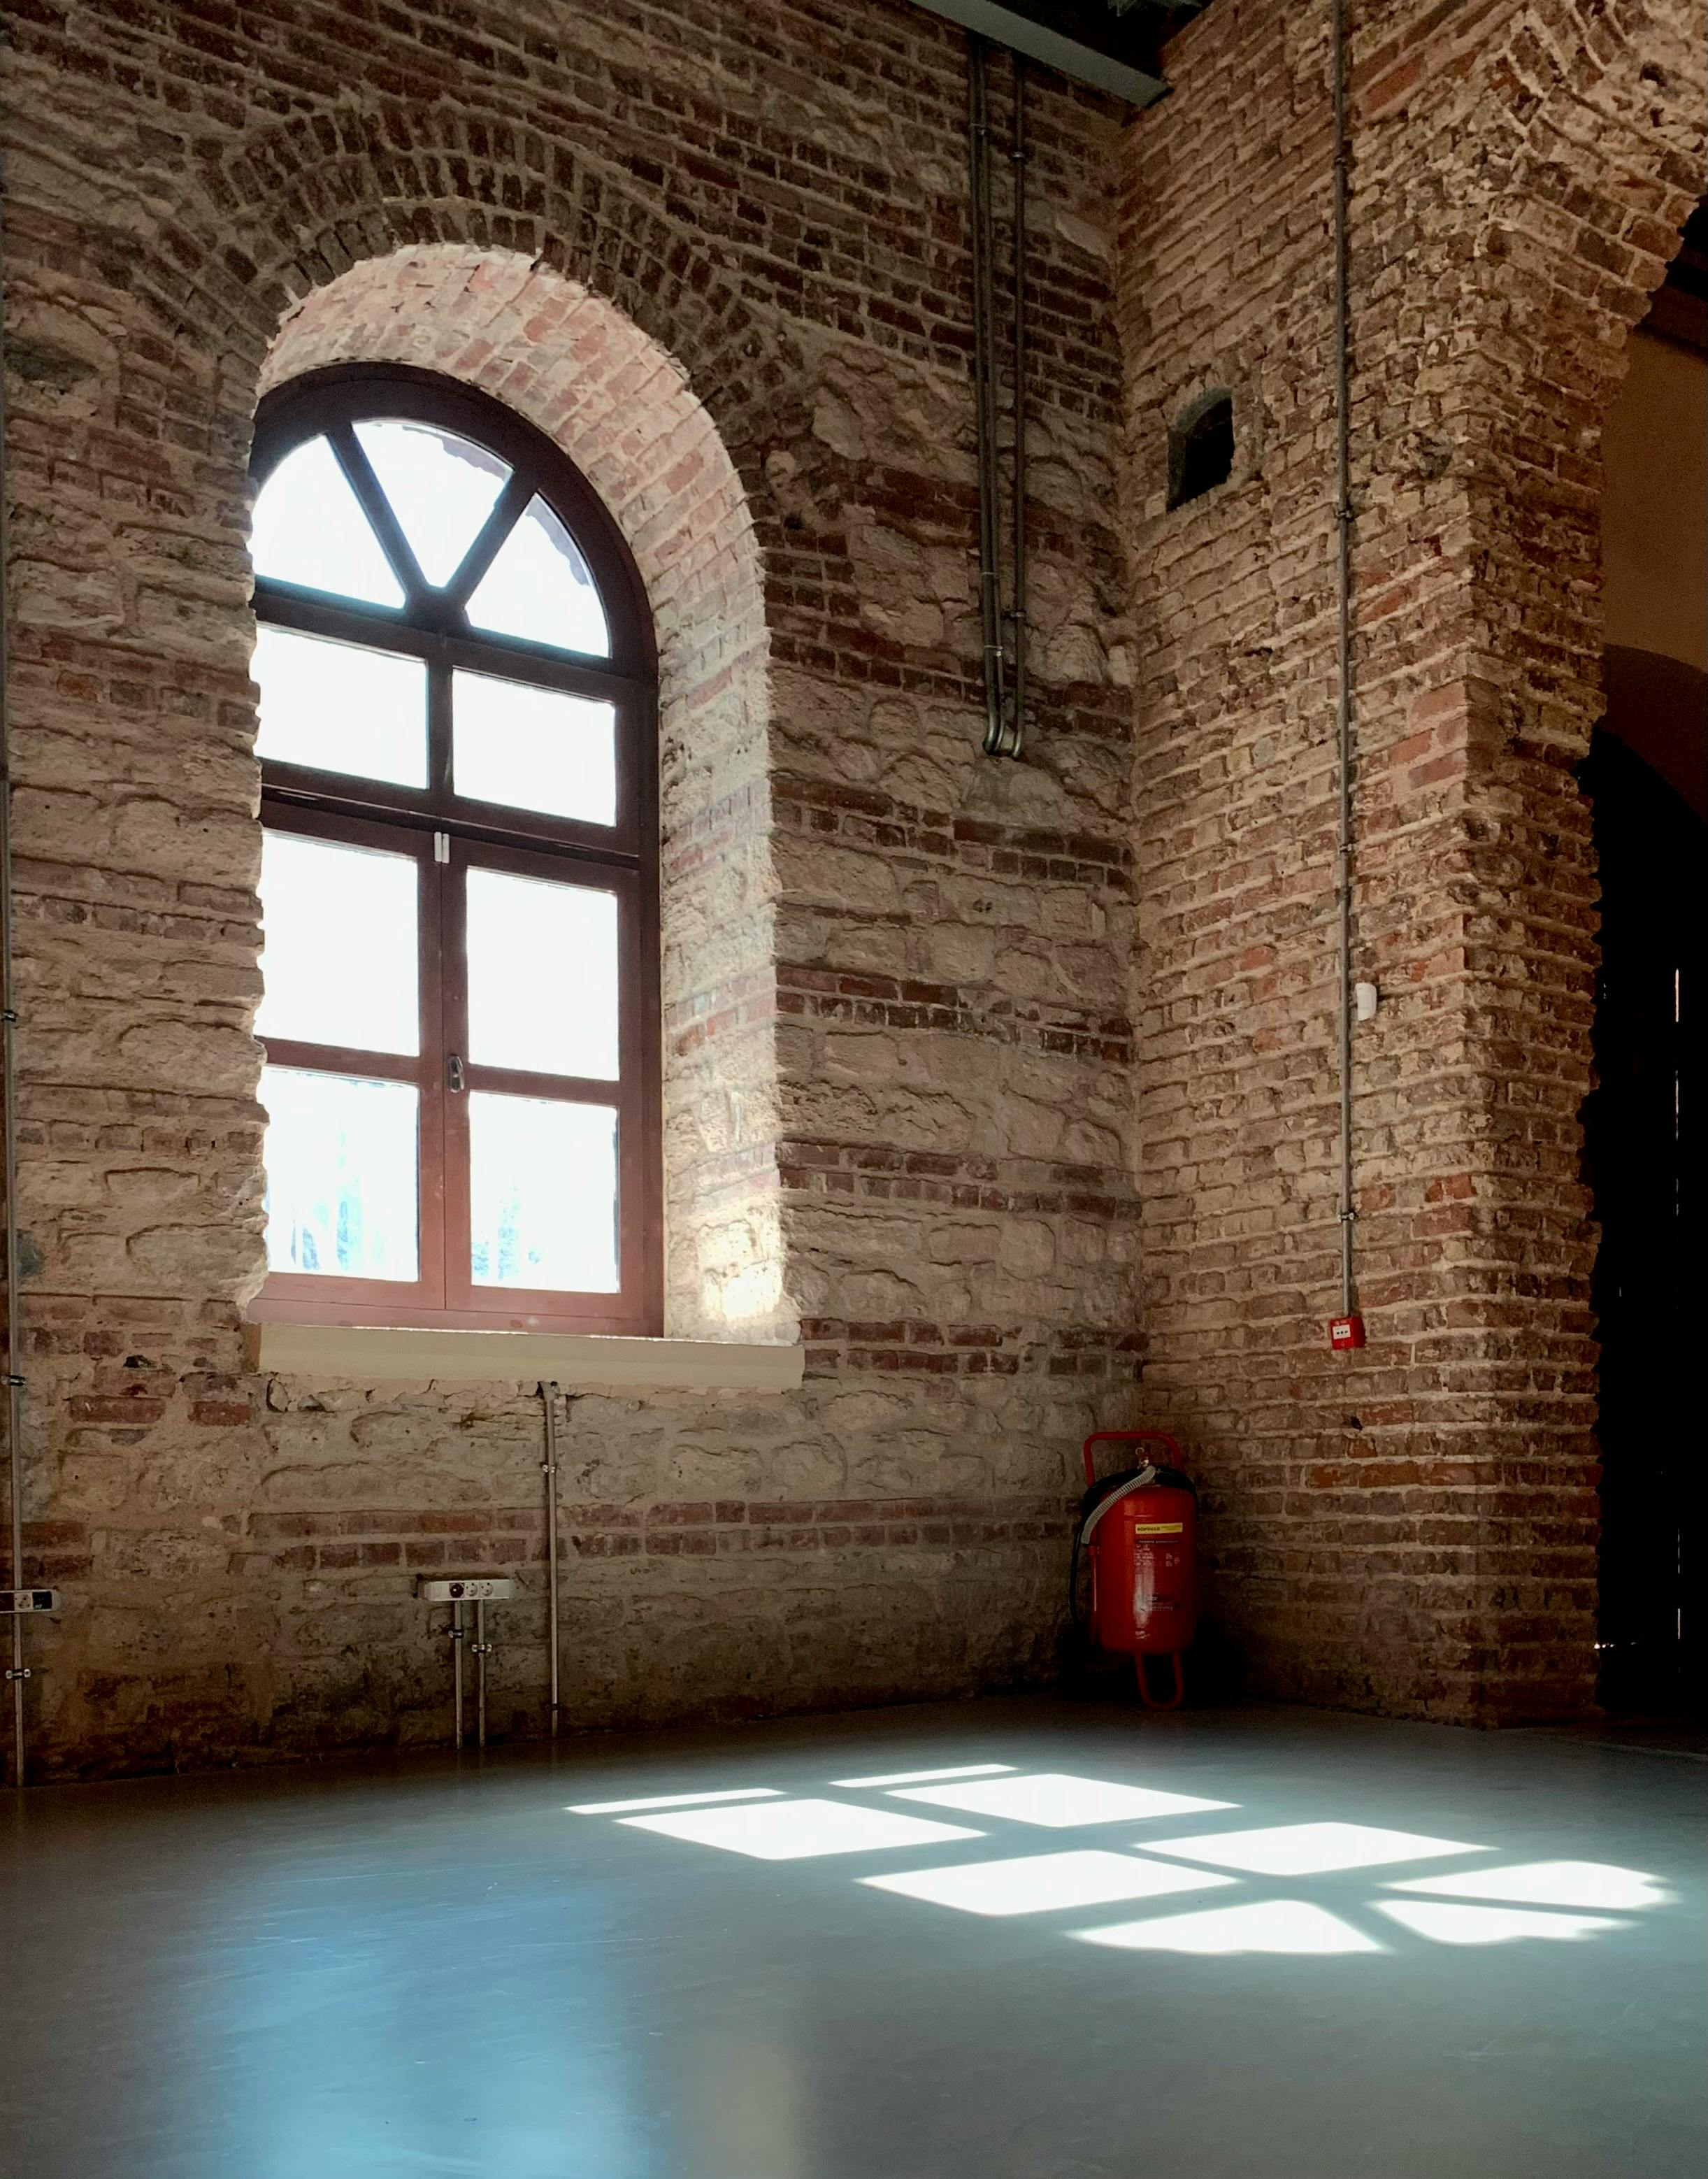extintor: (1075, 1422, 1211, 1714)
